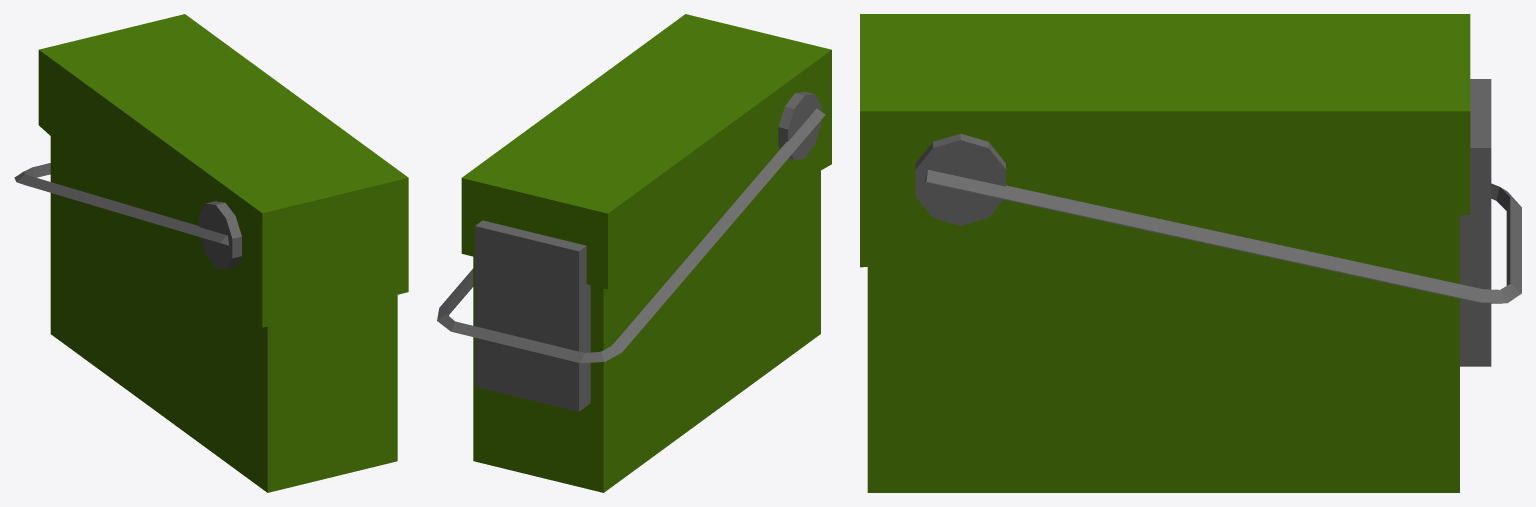
The model's file is Ammo_Crate.fbx.
3 renders of one model, left to right at view 1: azimuth 30°, elevation 25°; view 2: azimuth 150°, elevation 25°; view 3: azimuth 270°, elevation 25°, orthographic. The views are drawn at different scales.
Parts seen in each view (by area): view 1: pCube3; view 2: pCube3; view 3: pCube3.
Boxes of the visible parts, x1,y1,x2,y2 form: pCube3: (14, 14, 408, 492); pCube3: (437, 14, 831, 492); pCube3: (860, 14, 1521, 492).
Bounding box in the file's own units: 12.63 × 18.75 × 29.06.
